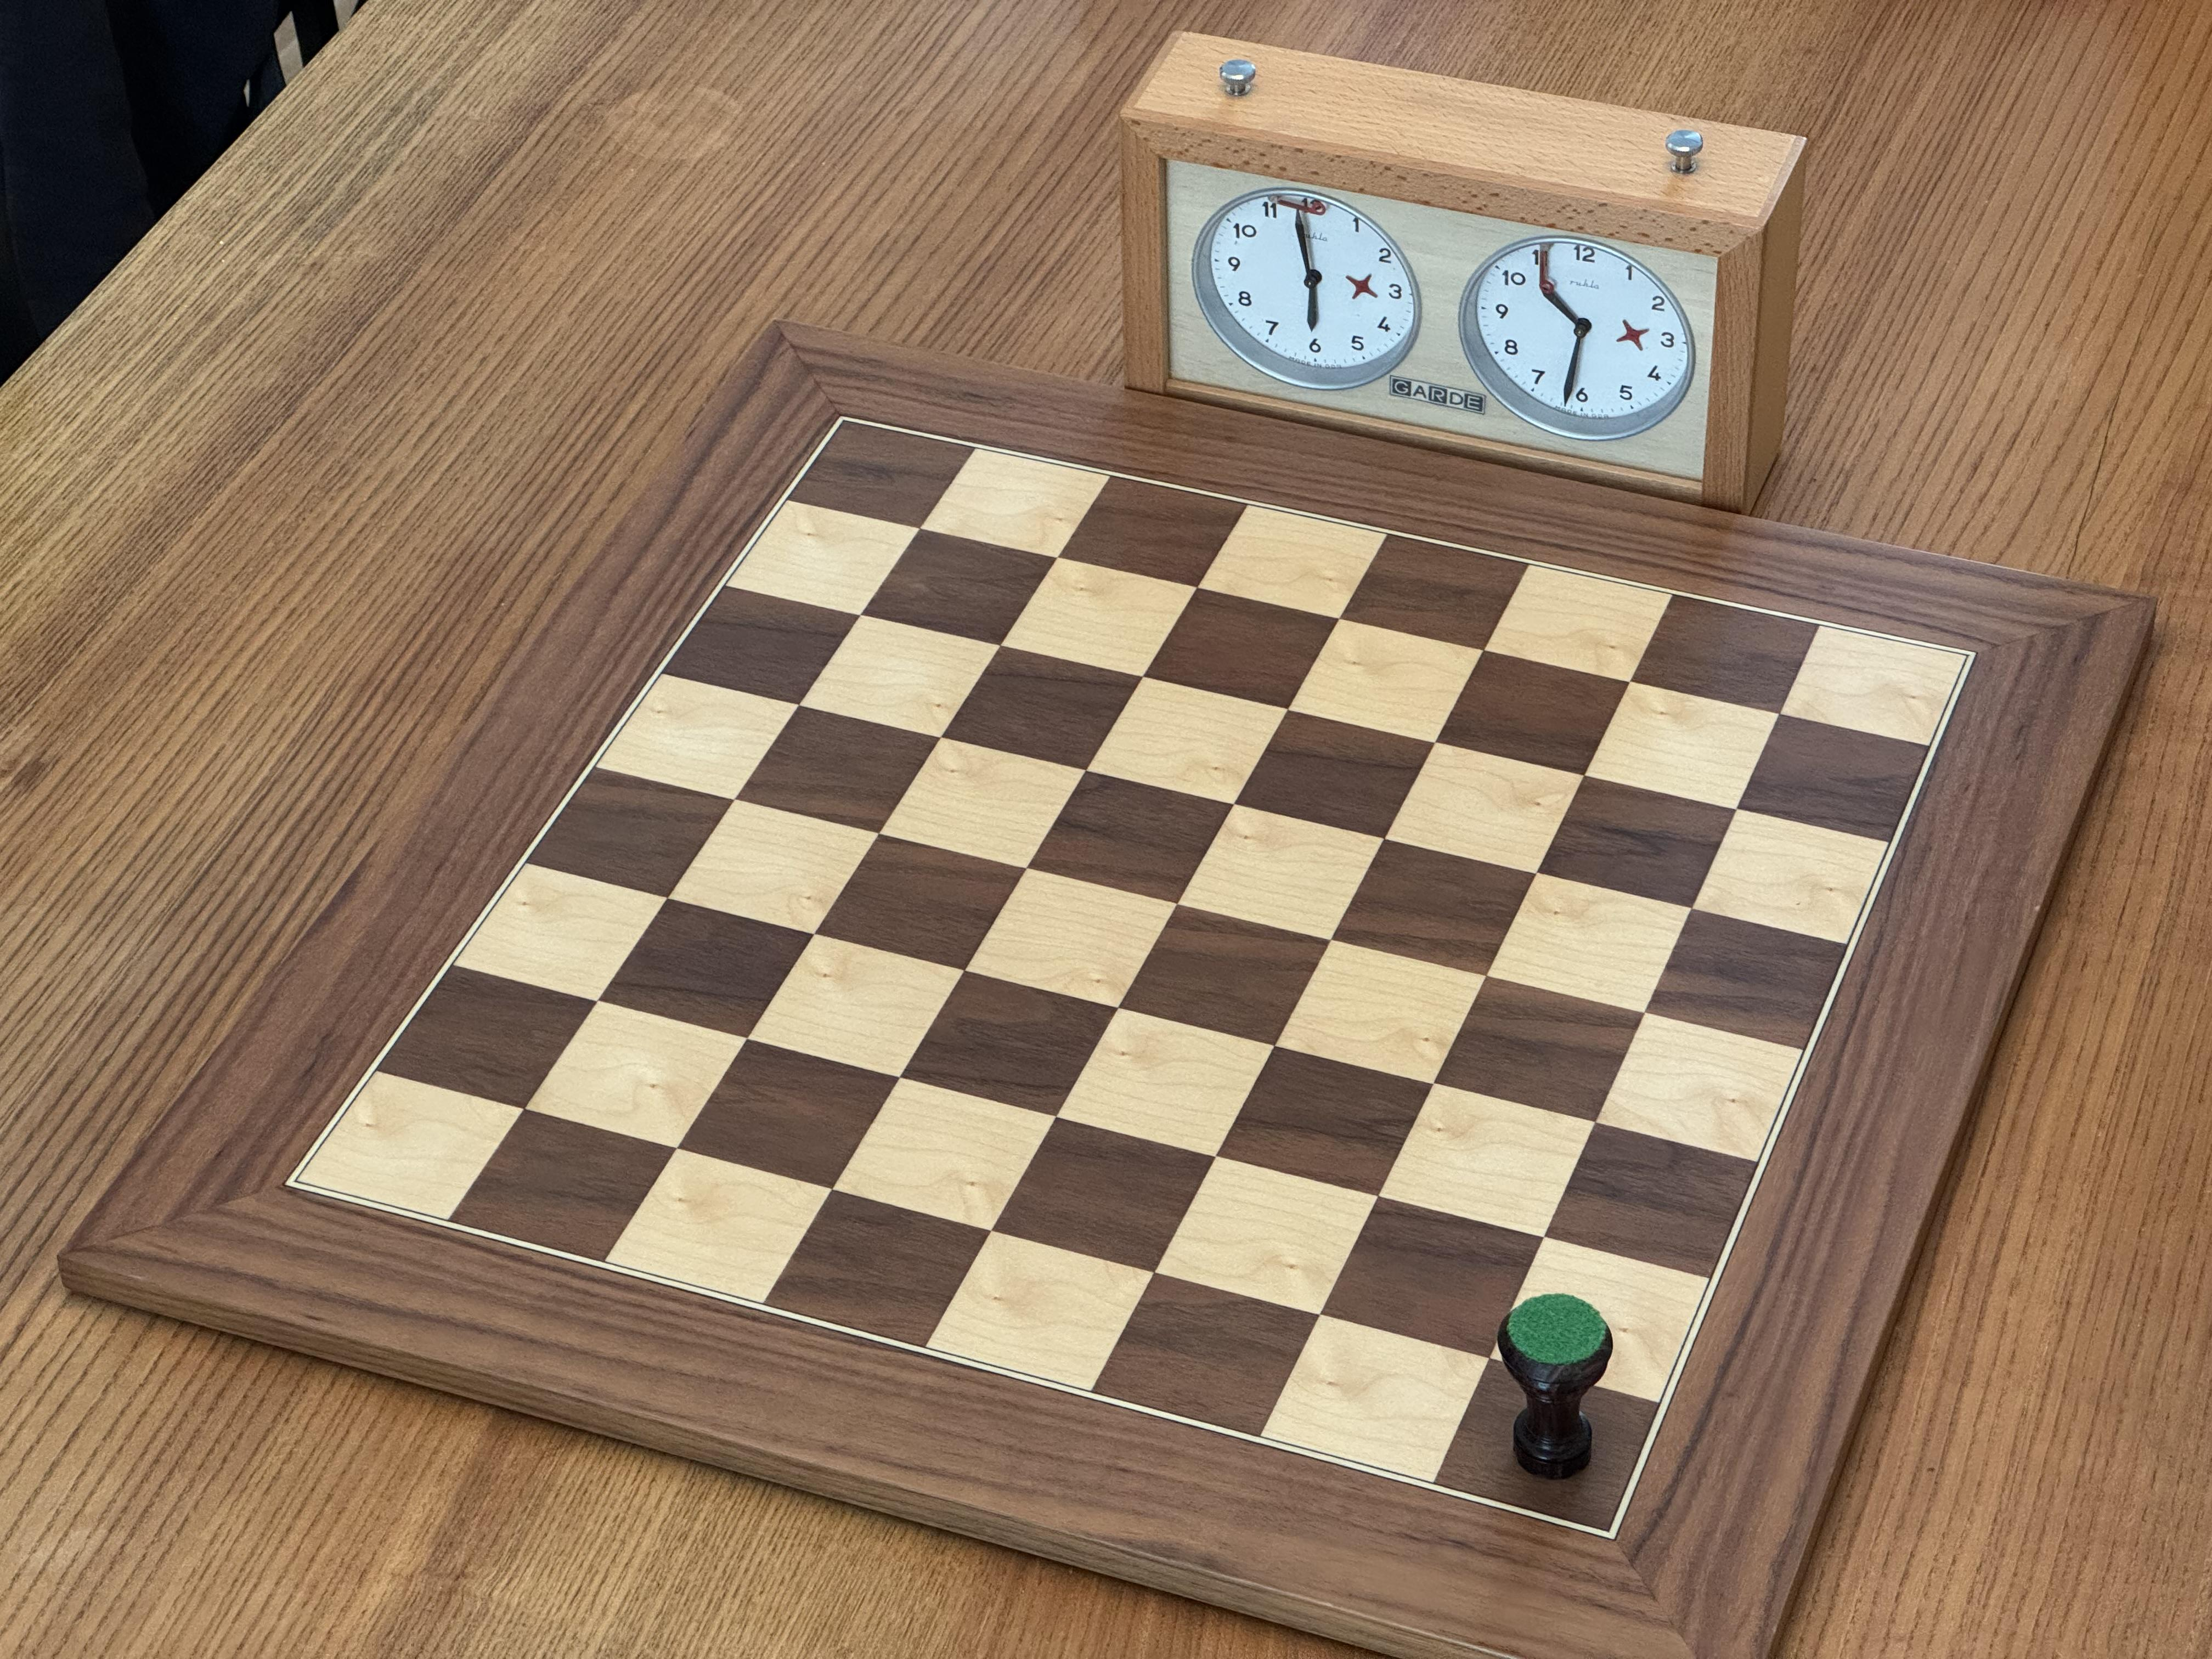Black Extra Queen: (1494, 1290, 1616, 1485)
